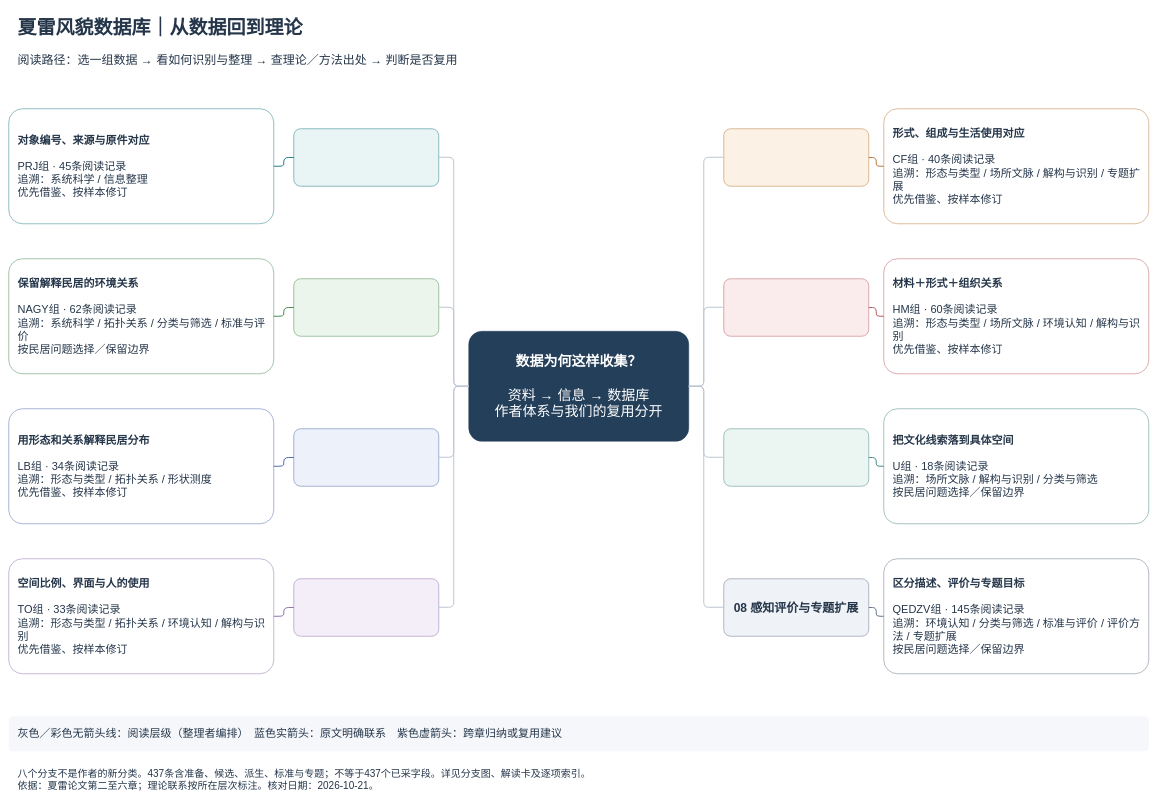
Image size: 1158x810. Some labels were removed from this diagram. Here are the shapes that lost their labels. From the top down, the box of each, then its label:
(293, 128, 439, 186): 01 前期组织与证据管理
(723, 128, 869, 186): 05 庭院与住宅使用
(293, 278, 439, 336): 02 自然环境与农业背景
(723, 278, 869, 336): 06 建筑构件与历史标识
(293, 428, 439, 486): 03 聚落布局与总体形态
(723, 428, 869, 486): 07 人文信息与解释线索
(293, 578, 439, 636): 04 街道与开敞空间
